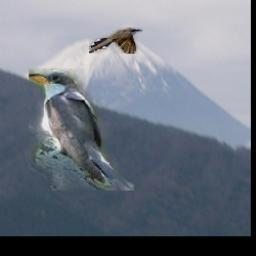Cuckoo: (28, 69, 133, 192), (89, 28, 142, 55)
